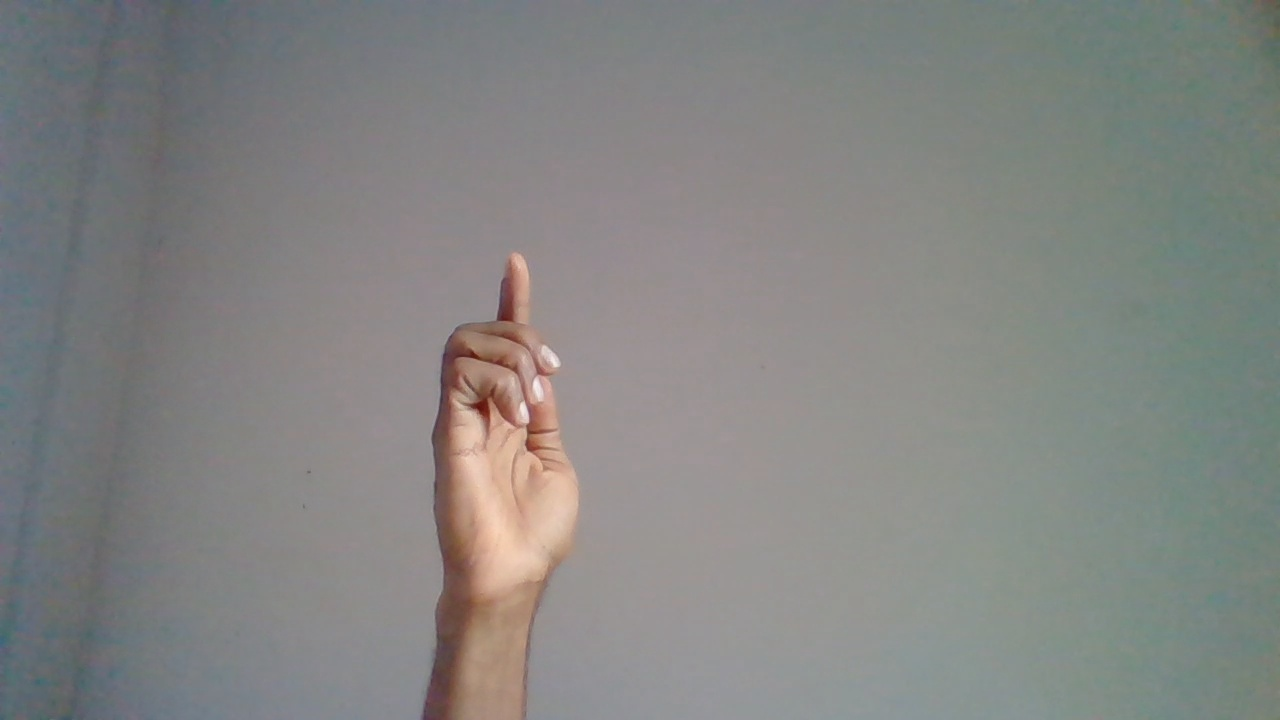qe: (420, 233, 579, 659)
